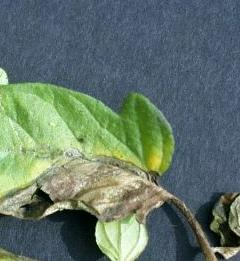Tomato leaf late blight: (0, 83, 185, 241)
